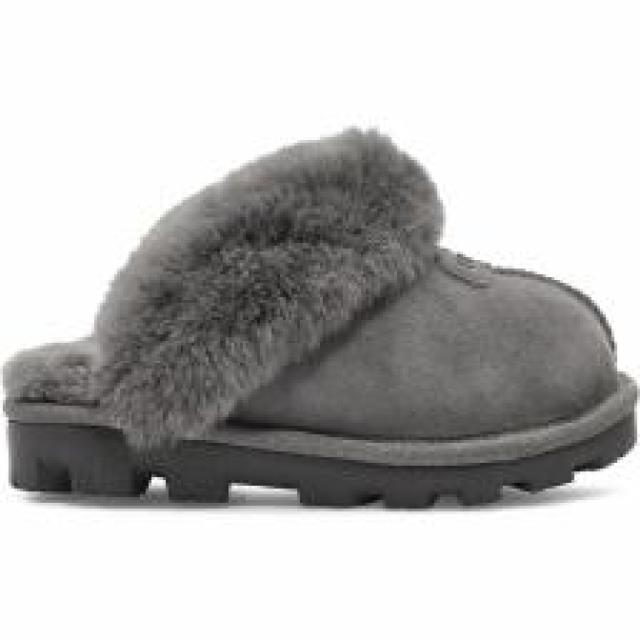shoe: (1, 127, 639, 507)
